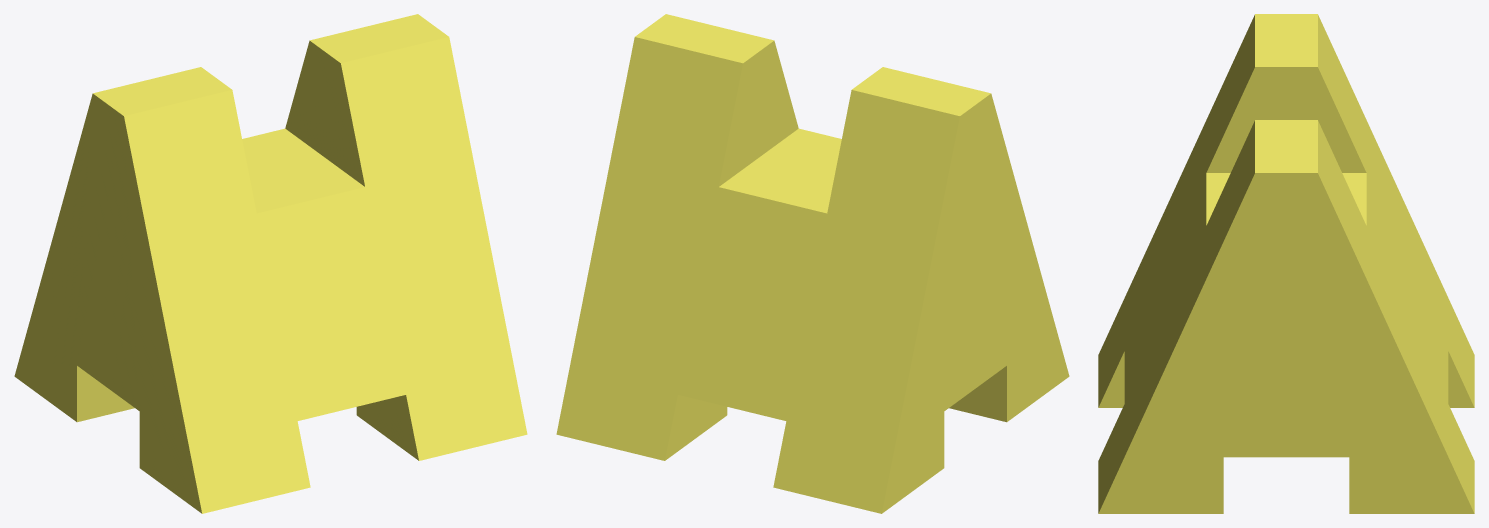
The picture shows the model from 3 angles, left to right: view 1: azimuth 30°, elevation 25°; view 2: azimuth 150°, elevation 25°; view 3: azimuth 270°, elevation 25°; orthographic projection.
Parts seen in each view (by area): view 1: 936; view 2: 936; view 3: 936.
Boxes of the visible parts, x1,y1,x2,y2 form: 936: [14, 14, 527, 513]; 936: [556, 14, 1069, 513]; 936: [1098, 14, 1474, 513].
Bounding box in the file's own units: 0.09 × 0.09 × 0.09.
